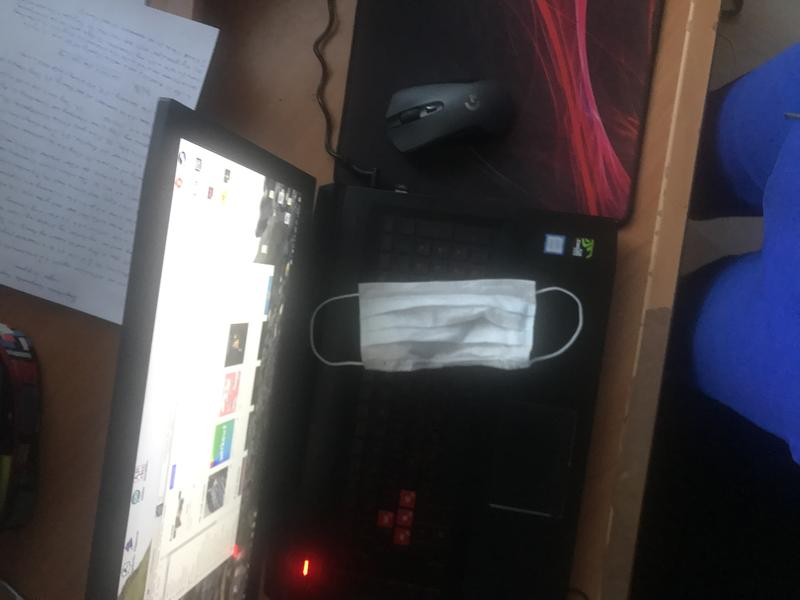medical_mask: (309, 277, 583, 371)
